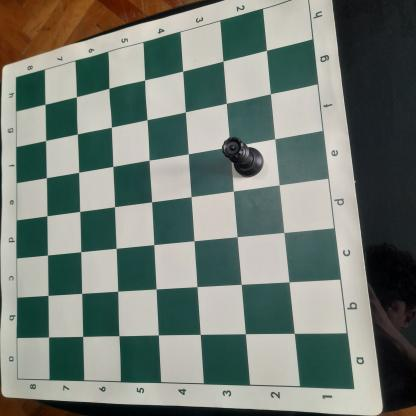black-queen: (221, 136, 266, 179)
